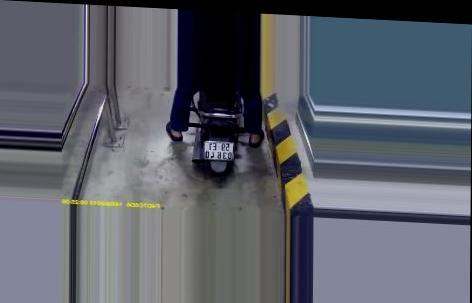License_Plate: (203, 139, 237, 162)
